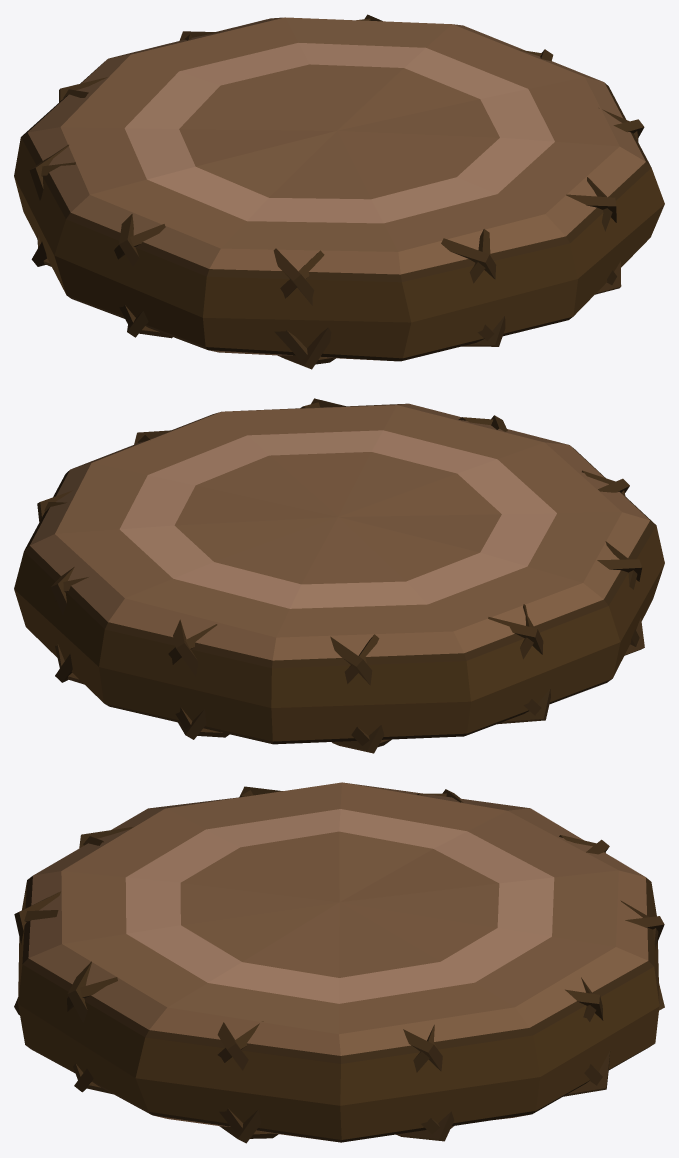
File: SM_Prop_Pillow_02.fbx
3 renders of one model, top to bottom at view 1: azimuth 30°, elevation 25°; view 2: azimuth 150°, elevation 25°; view 3: azimuth 270°, elevation 25°, orthographic. The views are drawn at different scales.
Visible parts, largest first — view 1: SM_Prop_Pillow_02; view 2: SM_Prop_Pillow_02; view 3: SM_Prop_Pillow_02.
Boxes of the visible parts, x1,y1,x2,y2 form: SM_Prop_Pillow_02: [14, 14, 664, 369]; SM_Prop_Pillow_02: [14, 398, 664, 753]; SM_Prop_Pillow_02: [14, 782, 664, 1143].
Size of the model in its own units: 0.492 by 0.098 by 0.4756.
1 material, 1 textured.
